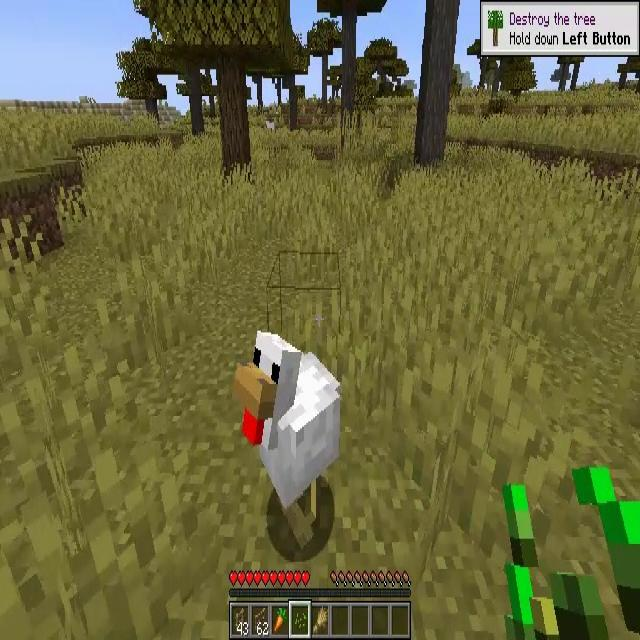duck: (236, 329, 340, 545)
